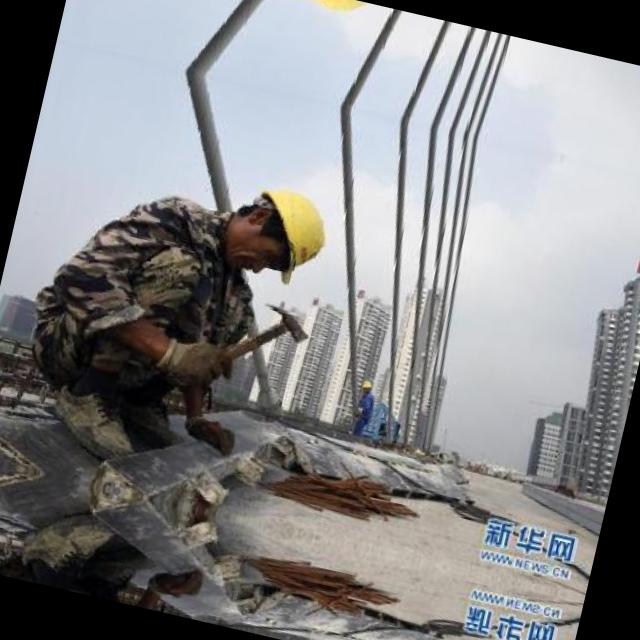helmet: (216, 173, 348, 291), (356, 376, 374, 393)
